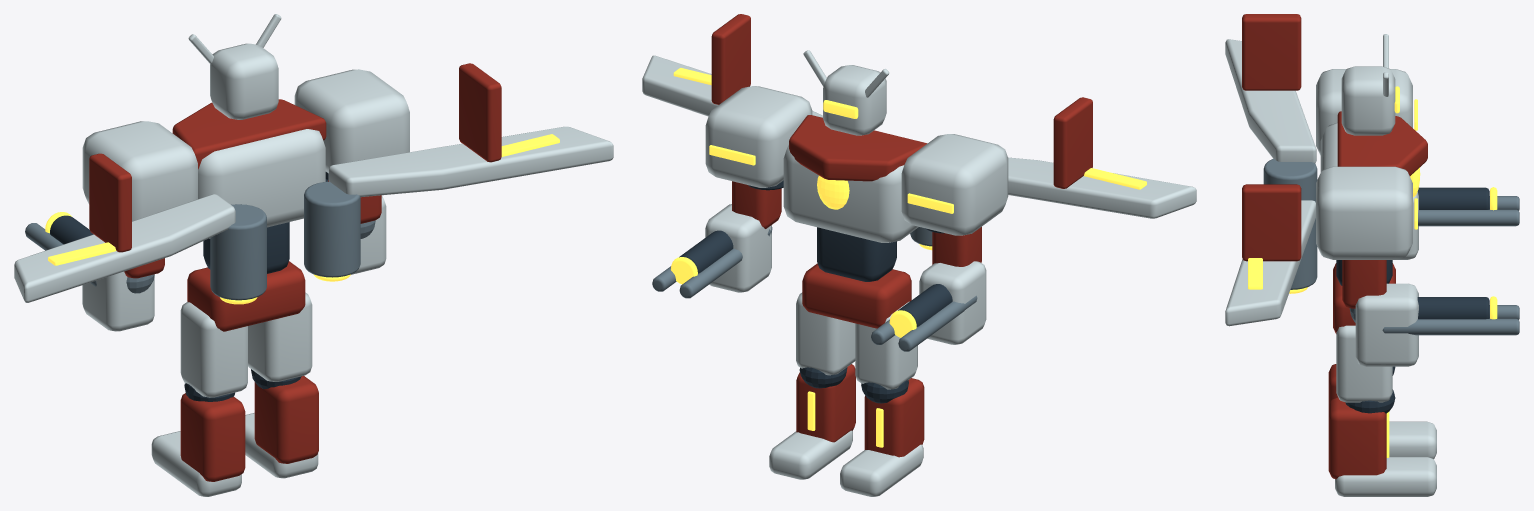
Rendered from CrimsonFrame.fbx.
3 views of the same model, side by side, from view 1: azimuth 30°, elevation 25°; view 2: azimuth 150°, elevation 25°; view 3: azimuth 270°, elevation 25° (orthographic). The views are drawn at different scales.
Parts seen in each view (by area): view 1: Flight wing.001, Flight wing, Chest armor, Pauldron.001, Pauldron, Thigh armor, Back thruster.001, Shin armor, Shin armor.001, Back thruster, Chest collar, Helmet (+12 smaller); view 2: Pauldron, Pauldron.001, Chest armor, Flight wing, Chest collar, Pelvis armor, Forearm weapon.001, Forearm weapon, Thigh armor.001, Helmet, Shin armor, Abdominal reactor (+17 smaller); view 3: Pauldron.001, Flight wing, Wing stabilizer, Forearm weapon.001, Wing stabilizer.001, Shin armor.001, Flight wing.001, Helmet, Chest collar, Flight boot.001, Thigh armor.001, Pauldron (+15 smaller).
Boxes of the visible parts, x1,y1,x2,y2 form: Flight wing.001: (328, 126, 613, 197); Flight wing: (14, 194, 235, 302); Chest armor: (198, 129, 325, 238); Pauldron.001: (294, 69, 409, 173); Pauldron: (82, 121, 197, 221); Thigh armor: (180, 301, 247, 397); Back thruster.001: (304, 181, 360, 277); Shin armor: (180, 393, 245, 481); Shin armor.001: (254, 376, 318, 463); Back thruster: (210, 204, 266, 300); Chest collar: (172, 99, 326, 169); Helmet: (210, 43, 278, 119); Pauldron: (901, 134, 1008, 235); Pauldron.001: (705, 86, 812, 187); Chest armor: (783, 145, 918, 242); Flight wing: (1008, 157, 1196, 218); Chest collar: (789, 115, 927, 181); Pelvis armor: (802, 263, 911, 328); Forearm weapon.001: (705, 204, 771, 292); Forearm weapon: (919, 261, 986, 344); Thigh armor.001: (796, 292, 855, 375); Helmet: (823, 65, 886, 135); Shin armor: (864, 378, 924, 457); Abdominal reactor: (817, 227, 896, 281); Pauldron.001: (1316, 166, 1412, 259); Flight wing: (1225, 39, 1316, 163); Wing stabilizer: (1242, 14, 1301, 90); Forearm weapon.001: (1355, 283, 1418, 366); Wing stabilizer.001: (1242, 184, 1301, 261); Shin armor.001: (1328, 397, 1386, 479); Flight wing.001: (1225, 200, 1315, 326); Helmet: (1341, 66, 1395, 135); Chest collar: (1337, 111, 1427, 175); Flight boot.001: (1335, 457, 1436, 496); Thigh armor.001: (1336, 325, 1392, 402); Pauldron: (1316, 69, 1412, 155).
Bounding box in the file's own units: 478 × 344 × 219.
